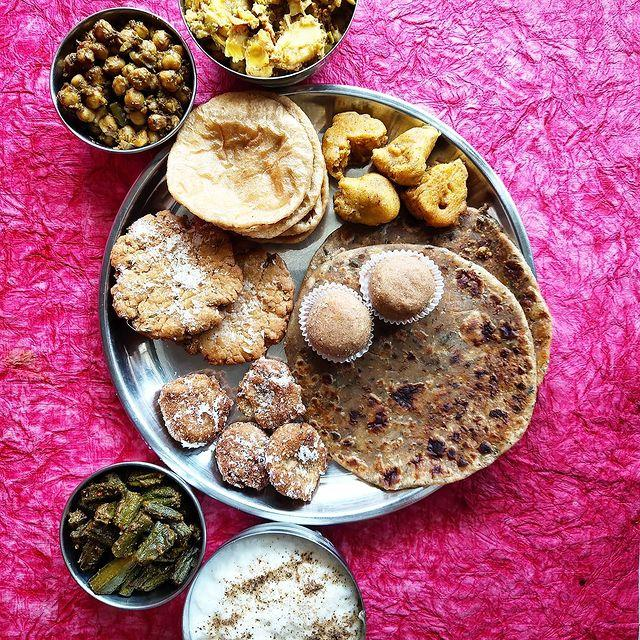Chole: (18, 5, 198, 156)
